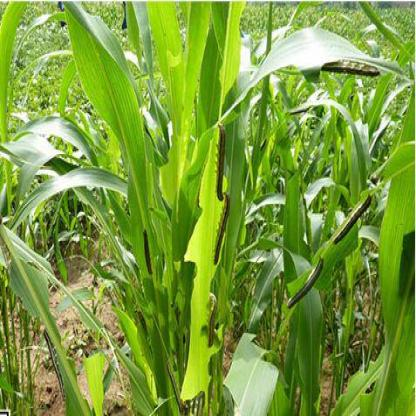armyworm: (283, 252, 323, 318), (333, 192, 376, 248), (40, 328, 68, 404), (320, 61, 386, 84), (163, 355, 186, 416), (214, 192, 230, 268), (213, 122, 225, 210), (206, 293, 222, 356), (143, 226, 154, 279)
